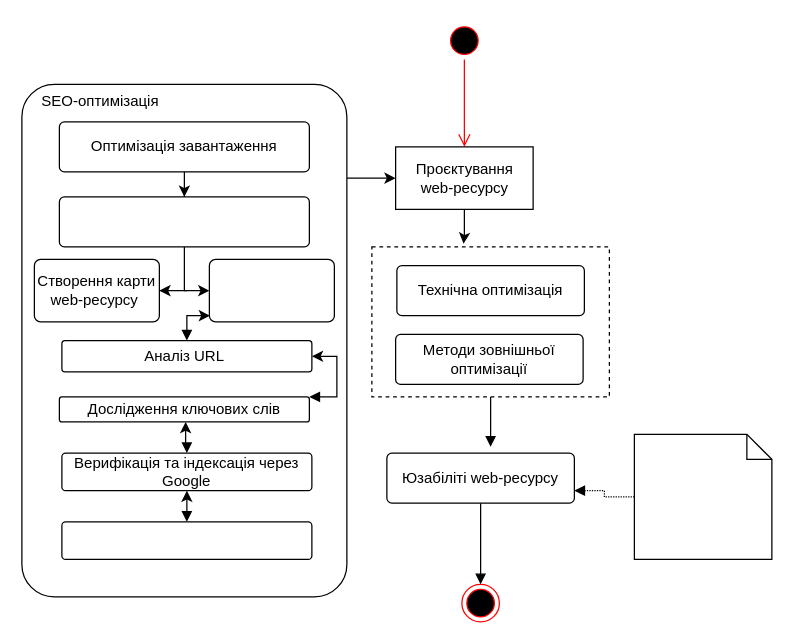
This 794x644 diagram has some shape labels left out. The shapes that lost their labels are listed below. From the top down, each one's box as (x1, y1, x2, y2) in pixels, then its label:
(58, 196, 309, 247): Мініфікація файлів та зображень
(208, 258, 334, 322): Створення файлу robots.txt
(633, 433, 772, 559): Оцінка простоти та зручності роботи web-ресурсу
(61, 521, 312, 559): Просування у соціальних мережах
